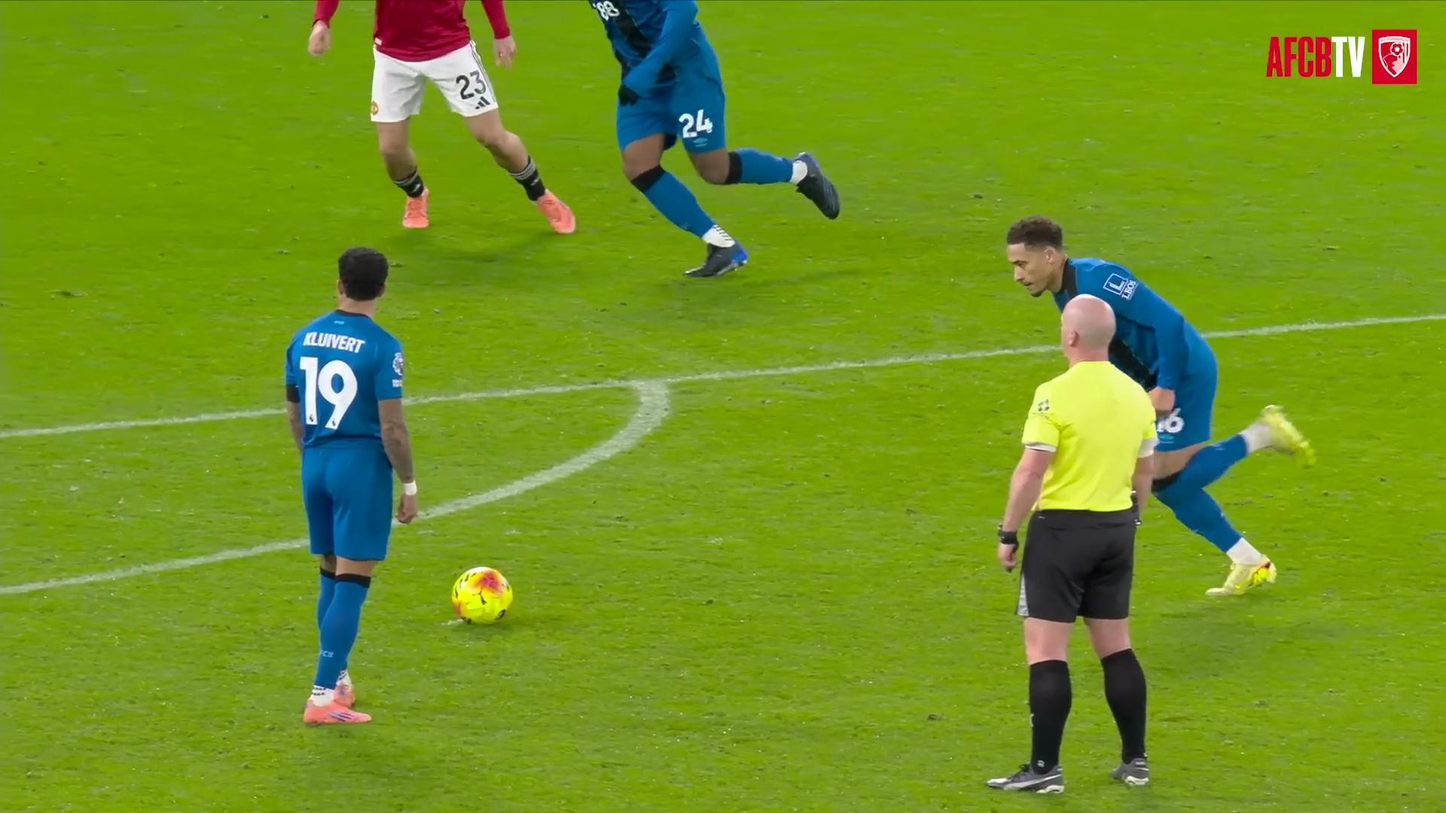football: (452, 566, 512, 623)
player: (1007, 215, 1313, 595), (590, 0, 839, 275), (286, 248, 416, 723), (371, 0, 575, 233)
referee: (987, 296, 1156, 792)
